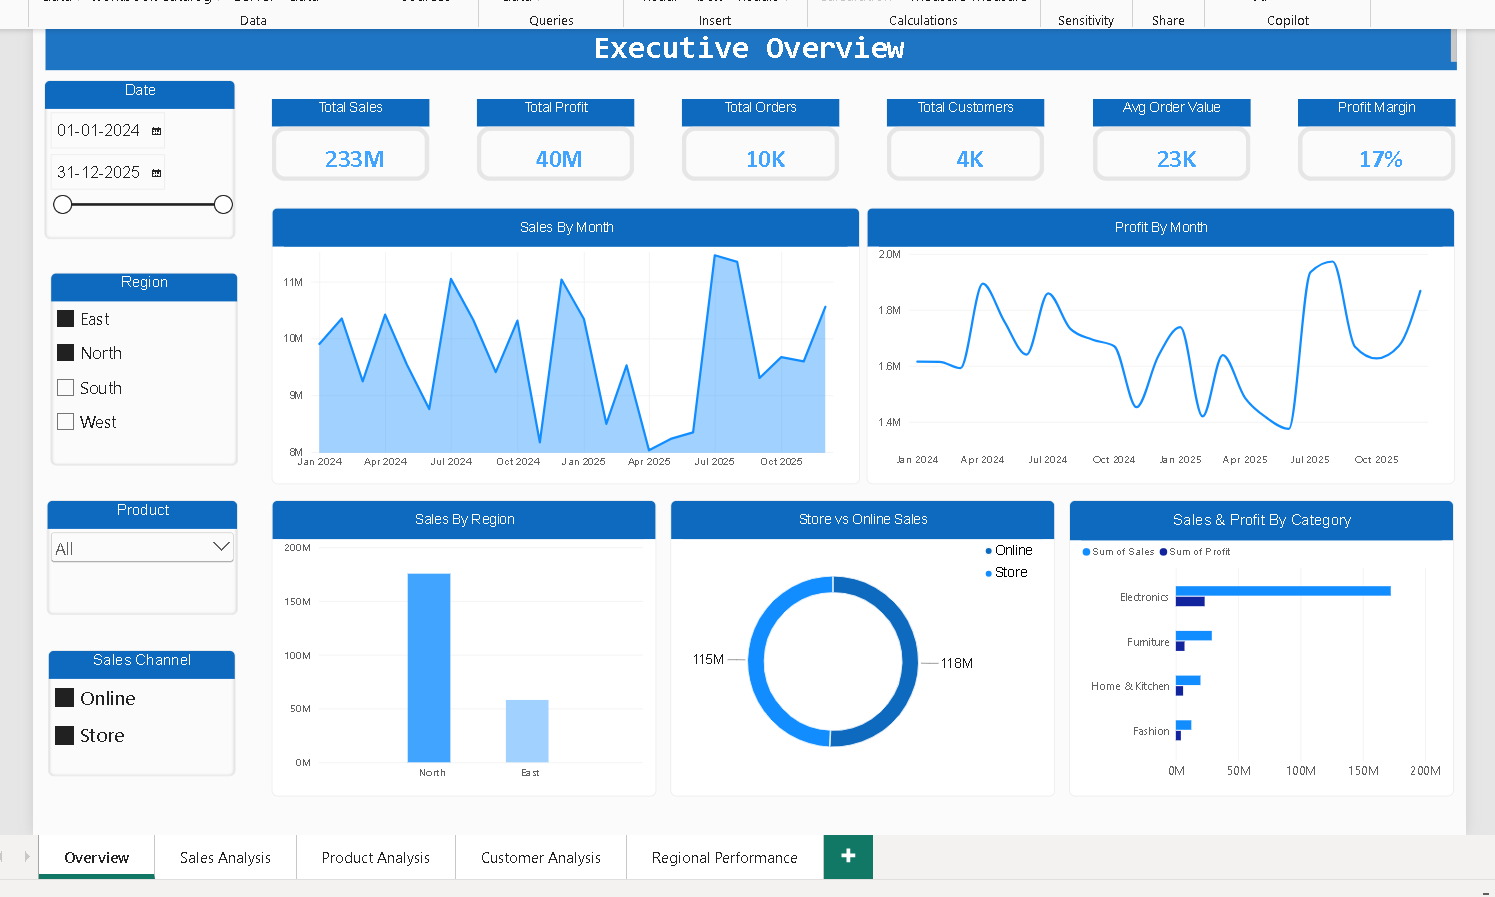

The page's visual inventory and layout, read from the dashboard file:
{"tool":"powerbi","page":{"name":"Overview","canvas":[1920,1080],"ordinal":0},"visuals":[{"type":"textbox","box":[16.7,0,1891,55.3],"z":0},{"type":"slicer","title":"Date","fields":{"Values":["Date.Date"]},"box":[15.7,68,256.4,212.8],"z":1000},{"type":"cardVisual","title":"Total Sales","fields":{"Data":["Sales_Data.Total Sales"]},"box":[319.9,93.8,211.4,110.4],"z":1000,"group":"g1"},{"type":"cardVisual","title":"Total Profit","fields":{"Data":["Sales_Data.Total Profit"]},"box":[594.9,93.8,211.4,110.5],"z":2000,"group":"g1"},{"type":"slicer","title":"Region","fields":{"Values":["Sales_Data.Region"]},"box":[22.7,327.3,251.2,258.1],"z":2000},{"type":"cardVisual","title":"Avg Order Value","fields":{"Data":["Sales_Data.Average Order Value"]},"box":[1419.7,93.8,211.4,110.5],"z":3000,"group":"g1"},{"type":"slicer","title":"Product","fields":{"Values":["Sales_Data.Product_Name"]},"box":[19.2,632,256.4,153.5],"z":3000},{"type":"cardVisual","title":"Total Orders","fields":{"Data":["Sales_Data.Total Orders"]},"box":[869.8,93.8,211.4,110.5],"z":4000,"group":"g1"},{"type":"stackedAreaChart","title":"Sales By Month","fields":{"Category":["Date.Year_Month"],"Y":["Sum(Sales_Data.Sales)"]},"box":[319.9,239.5,788,370.2],"z":4000,"group":"g3"},{"type":"slicer","title":"Sales Channel","fields":{"Values":["Sales_Data.Sales_Channel"]},"box":[20.9,832,251.2,169.2],"z":4000},{"type":"group","id":"g1","title":"Group 1","box":[319.9,93.8,1584.5,110.5],"z":5000},{"type":"cardVisual","title":"Total Customers","fields":{"Data":["Sales_Data.Total Customers"]},"box":[1144.8,93.8,211.4,110.5],"z":5000,"group":"g1"},{"type":"lineChart","title":" Profit  By Month","fields":{"Category":["Date.Year_Month"],"Y":["Sum(Sales_Data.Profit)"]},"box":[1116.4,239.5,788,370.2],"z":5000,"group":"g3"},{"type":"donutChart","title":"Store vs Online Sales","fields":{"Category":["Sales_Data.Sales_Channel"],"Y":["Sum(Sales_Data.Sales)"]},"box":[854.6,631.5,515.1,397],"z":5000,"group":"g2"},{"type":"cardVisual","title":"Profit Margin","fields":{"Data":["Sales_Data.Profit Margin"]},"box":[1694.7,93.8,211.4,110.5],"z":6000,"group":"g1"},{"type":"group","id":"g2","title":"Group 2","box":[319.9,631.5,1584.5,397],"z":6000},{"type":"group","id":"g3","title":"Group 3","box":[319.9,239.5,1584.5,370.2],"z":7000},{"type":"columnChart","title":"Sales By Region","fields":{"Category":["Sales_Data.Region"],"Y":["Sum(Sales_Data.Sales)"]},"box":[319.9,631.5,515.1,397],"z":8000,"group":"g2"},{"type":"clusteredBarChart","title":" Sales & Profit By Category","fields":{"Category":["Sales_Data.Category"],"Y":["Sum(Sales_Data.Sales)","Sum(Sales_Data.Profit)"]},"box":[1389.3,631.5,515.1,397],"z":9000,"group":"g2"}]}

Visuals, with their boxes on the page's 1920x1080 design canvas (x1, y1, x2, y2). These are canvas units, not pixel positions in the 1495x897 screenshot, which may show the page scaled, cropped or inside an application window:
textbox: rect(17, 0, 1908, 55)
"Date" slicer: rect(16, 68, 272, 281)
"Total Sales" cardVisual: rect(320, 94, 531, 204)
"Total Profit" cardVisual: rect(595, 94, 806, 204)
"Region" slicer: rect(23, 327, 274, 585)
"Avg Order Value" cardVisual: rect(1420, 94, 1631, 204)
"Product" slicer: rect(19, 632, 276, 786)
"Total Orders" cardVisual: rect(870, 94, 1081, 204)
"Sales By Month" stackedAreaChart: rect(320, 240, 1108, 610)
"Sales Channel" slicer: rect(21, 832, 272, 1001)
"Group 1" group: rect(320, 94, 1904, 204)
"Total Customers" cardVisual: rect(1145, 94, 1356, 204)
" Profit  By Month" lineChart: rect(1116, 240, 1904, 610)
"Store vs Online Sales" donutChart: rect(855, 632, 1370, 1028)
"Profit Margin" cardVisual: rect(1695, 94, 1906, 204)
"Group 2" group: rect(320, 632, 1904, 1028)
"Group 3" group: rect(320, 240, 1904, 610)
"Sales By Region" columnChart: rect(320, 632, 835, 1028)
" Sales & Profit By Category" clusteredBarChart: rect(1389, 632, 1904, 1028)
